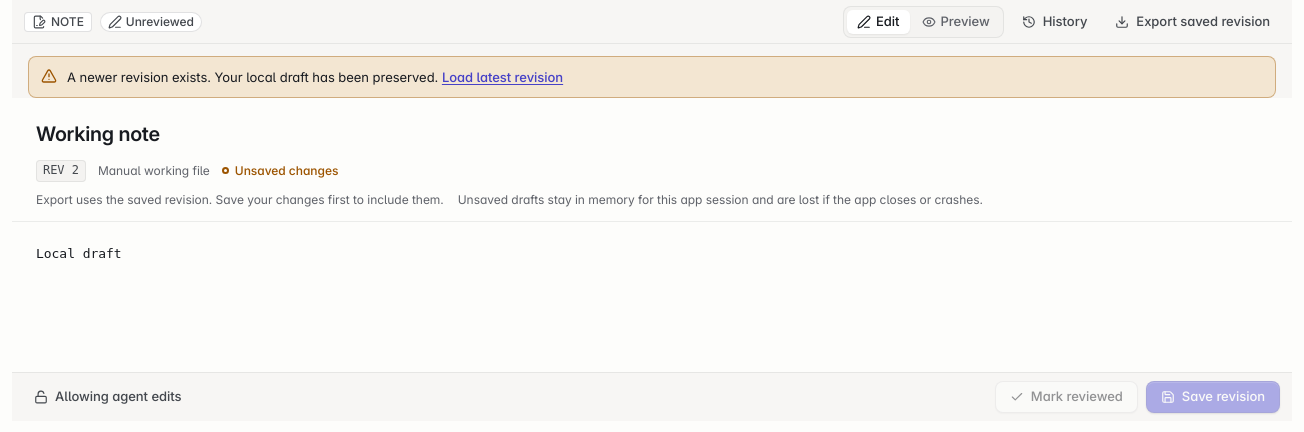
Test: follows new server revisions only while clean and preserves a conflicting draft
Earlier steps of the test are not shown.
Expected: the text box named "Working file content" holds "Local draft", [12,222,1292,372]
Expected: the text "newer revision exists" is shown, [67,69,442,85]
Click the button "Load latest revision": (503, 77) [442,67,563,87]
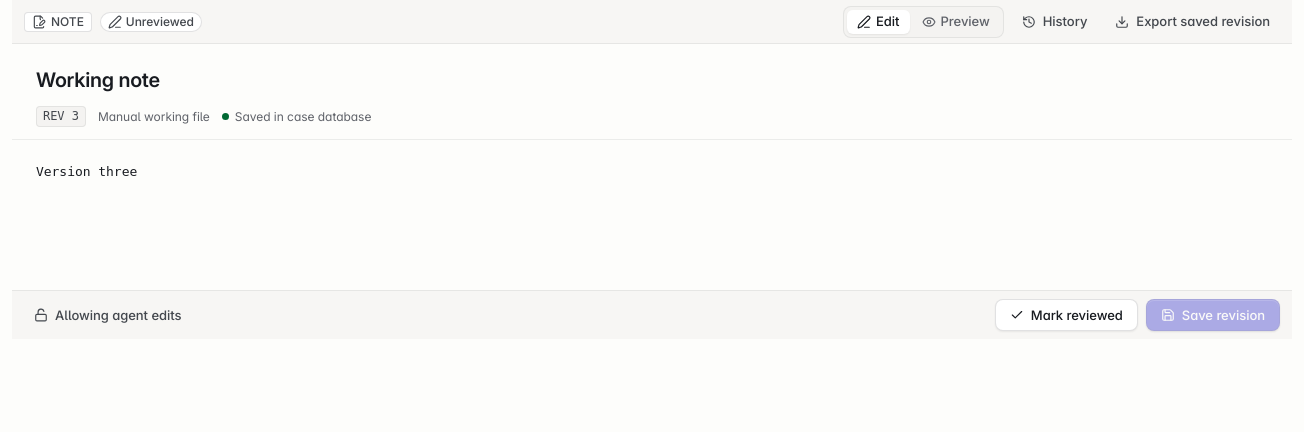
Expected: the text box named "Working file content" holds "Version three", [12,140,1292,290]
